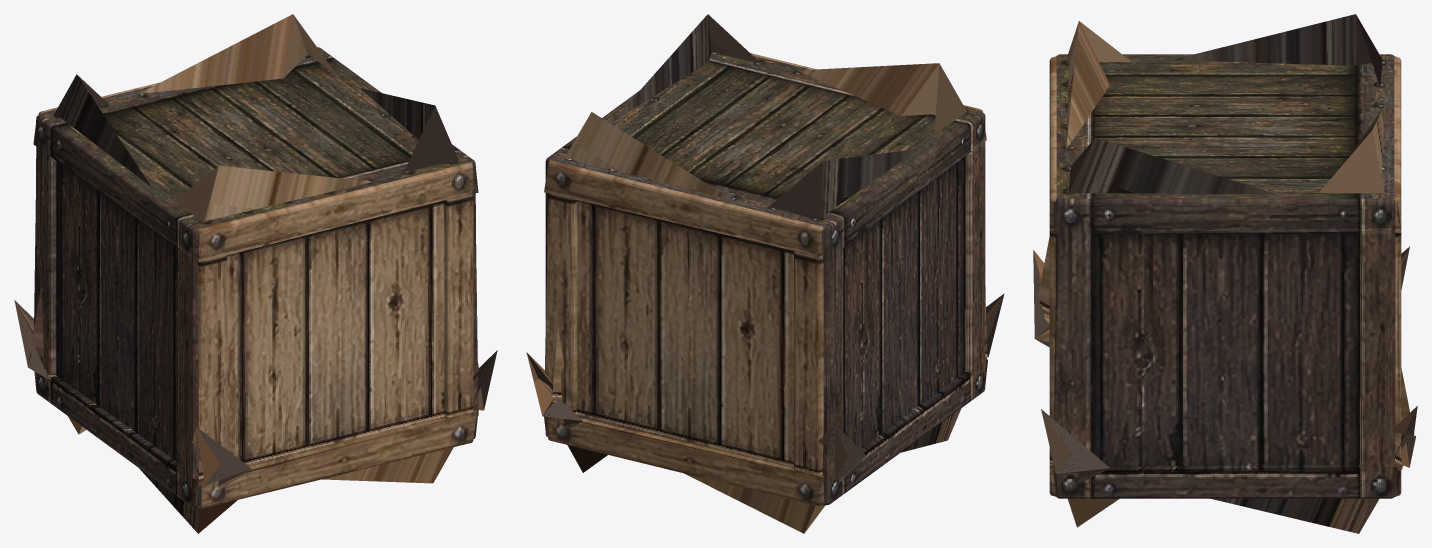
The model's file is crate_plank.glb.
The picture shows the model from 3 angles, left to right: view 1: azimuth 30°, elevation 25°; view 2: azimuth 150°, elevation 25°; view 3: azimuth 270°, elevation 25°; orthographic projection. The views are drawn at different scales.
Visible parts, largest first — view 1: body, piece_03, piece_00, piece_01, piece_02, piece_04, piece_05, piece_11, piece_10, piece_09; view 2: body, piece_00, piece_04, piece_09, piece_03, piece_08, piece_05, piece_02, piece_10; view 3: body, piece_05, piece_08, piece_02, piece_00, piece_04, piece_01, piece_11, piece_03.
Boxes of the visible parts, left/top/right/bottom form: body: left=33, top=47, right=478, bottom=508; piece_03: left=114, top=146, right=319, bottom=335; piece_00: left=14, top=300, right=331, bottom=533; piece_01: left=322, top=339, right=497, bottom=483; piece_02: left=250, top=96, right=478, bottom=306; piece_04: left=34, top=73, right=249, bottom=262; piece_05: left=179, top=14, right=393, bottom=145; piece_11: left=320, top=273, right=477, bottom=359; piece_10: left=125, top=272, right=322, bottom=378; piece_09: left=36, top=201, right=127, bottom=340; body: left=544, top=52, right=987, bottom=505; piece_00: left=534, top=262, right=1004, bottom=533; piece_04: left=684, top=134, right=906, bottom=309; piece_09: left=678, top=259, right=910, bottom=413; piece_03: left=785, top=63, right=986, bottom=258; piece_08: left=526, top=252, right=683, bottom=391; piece_05: left=544, top=75, right=783, bottom=276; piece_02: left=653, top=14, right=858, bottom=133; piece_10: left=907, top=217, right=985, bottom=326; body: left=1049, top=54, right=1401, bottom=498; piece_05: left=1184, top=112, right=1401, bottom=310; piece_08: left=1175, top=294, right=1417, bottom=434; piece_02: left=1049, top=94, right=1210, bottom=321; piece_00: left=1033, top=237, right=1415, bottom=533; piece_04: left=1213, top=14, right=1401, bottom=126; piece_01: left=1041, top=389, right=1174, bottom=527; piece_11: left=1051, top=310, right=1183, bottom=402; piece_03: left=1049, top=21, right=1225, bottom=120.
Size of the model in its own units: 0.9103 by 1.03 by 0.9103.
1 material, 1 textured.
